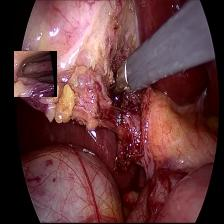Grasper: (14, 51, 57, 97)
Scissors: (106, 58, 136, 96)
